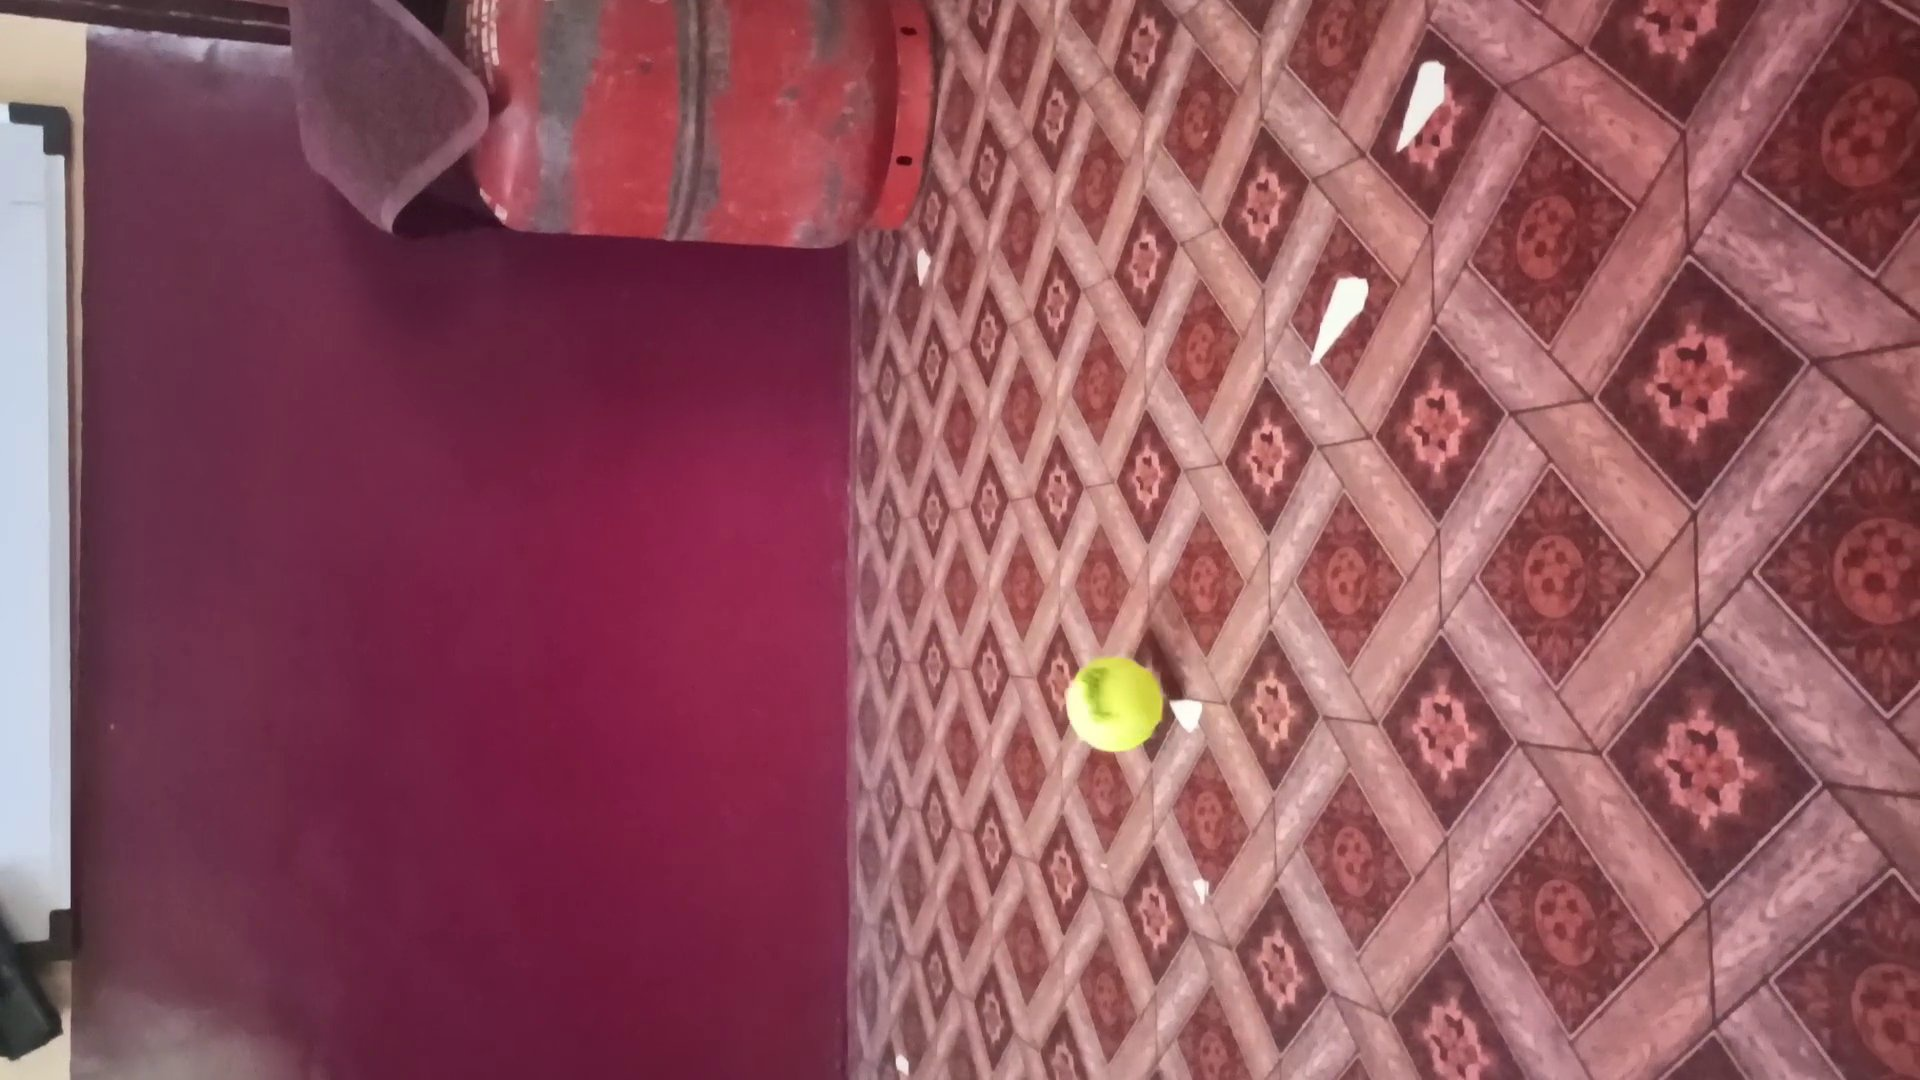Tennis-Ball: (1062, 655, 1163, 756)
